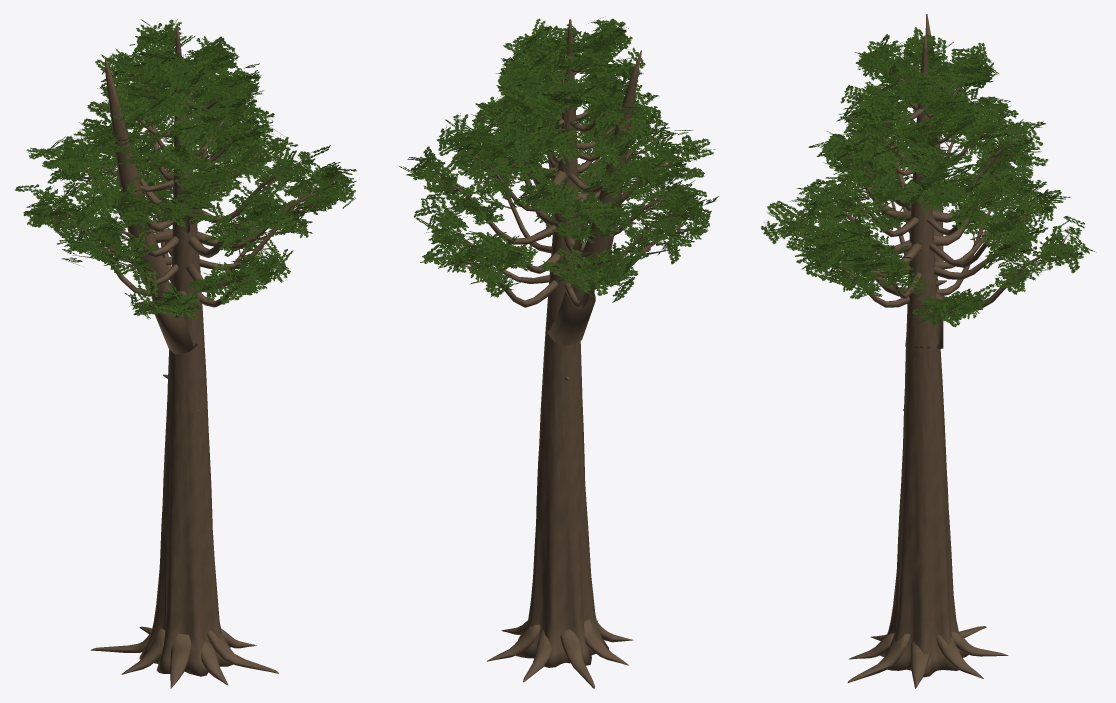
Rendered from GF2_Tree_C_OldFork_LOD1.fbx.
3 renders of one model, left to right at view 1: azimuth 30°, elevation 25°; view 2: azimuth 150°, elevation 25°; view 3: azimuth 270°, elevation 25°, orthographic. The views are drawn at different scales.
Visible parts, largest first — view 1: GF2_Tree_C_OldFork_LOD1; view 2: GF2_Tree_C_OldFork_LOD1; view 3: GF2_Tree_C_OldFork_LOD1.
Part boxes in pixels (<box>): GF2_Tree_C_OldFork_LOD1: <box>15,19,356,688</box>; GF2_Tree_C_OldFork_LOD1: <box>399,16,719,688</box>; GF2_Tree_C_OldFork_LOD1: <box>761,14,1096,688</box>.
Size of the model in its own units: 53.94 by 114 by 58.15.
